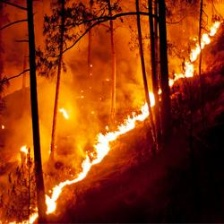fire: (29, 29, 212, 217)
